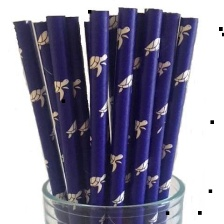drinking_straw: (122, 3, 164, 224), (85, 6, 111, 223)
glass: (34, 168, 190, 224)
